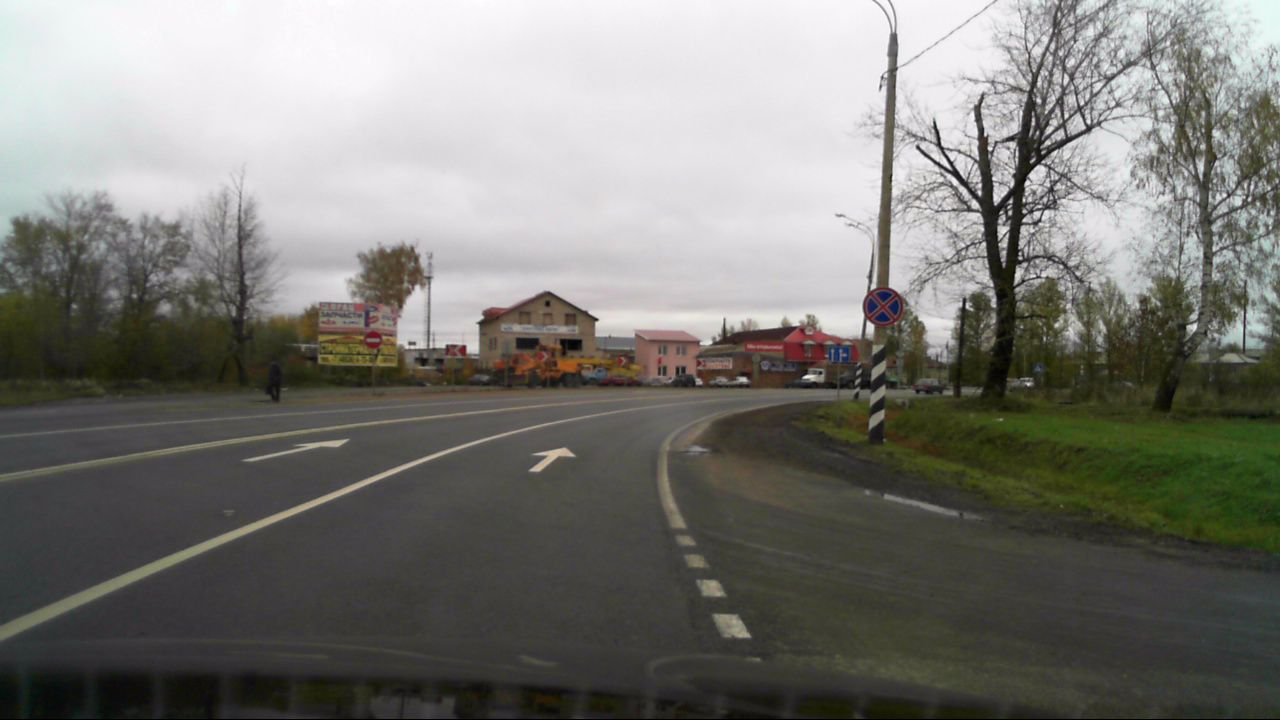No Parking: (861, 286, 903, 327)
